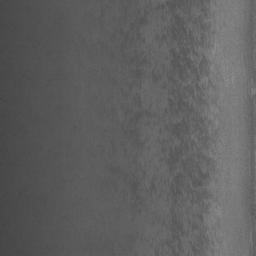Silk spot: (94, 0, 227, 256)
